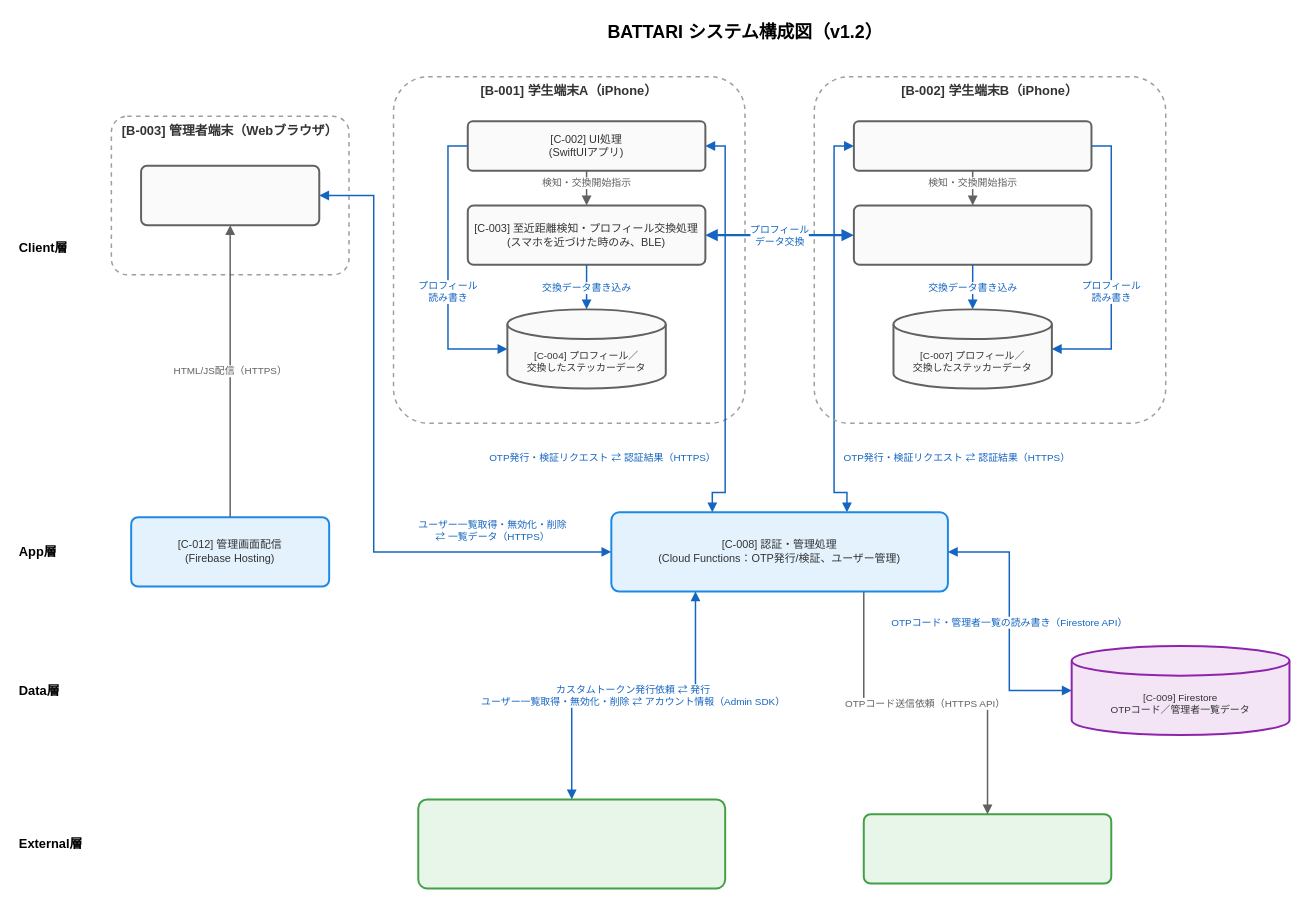
Some shapes in this 1307 by 906 pixel diagram are drawn without their labels. The centre of each missing label's shape, as x and y in pixels:
[C-001] 管理者UI処理 (HTML/JS): [230,195]
[C-005] UI処理 (SwiftUIアプリ): [972,145]
[C-006] 至近距離検知・プロフィール交換処理 (スマホを近づけた時のみ、BLE): [972,234]
[C-010] 学籍メール認証サービス（Firebase Auth） ユーザーアカウント情報を保持 （UID／メールアドレス／登録日時／有効・無効）: [571,843]
[C-011] OTPコードメール送信API (SendGrid): [987,848]
